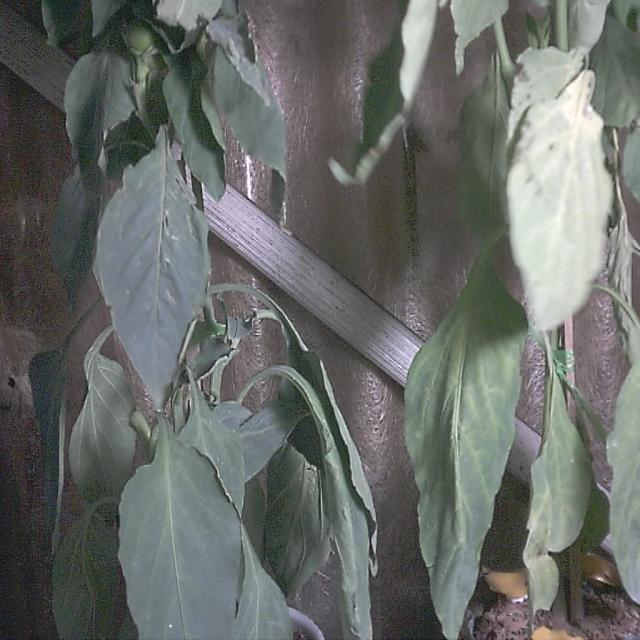Leaf: (405, 247, 526, 638), (97, 127, 209, 409), (507, 71, 612, 330), (119, 420, 241, 639)
